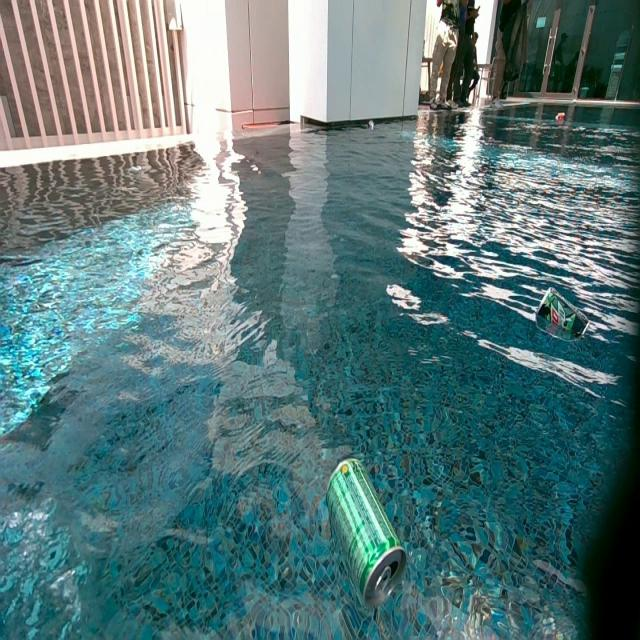Cans: (324, 459, 408, 614), (538, 283, 587, 341), (557, 112, 566, 122), (366, 120, 374, 128)
